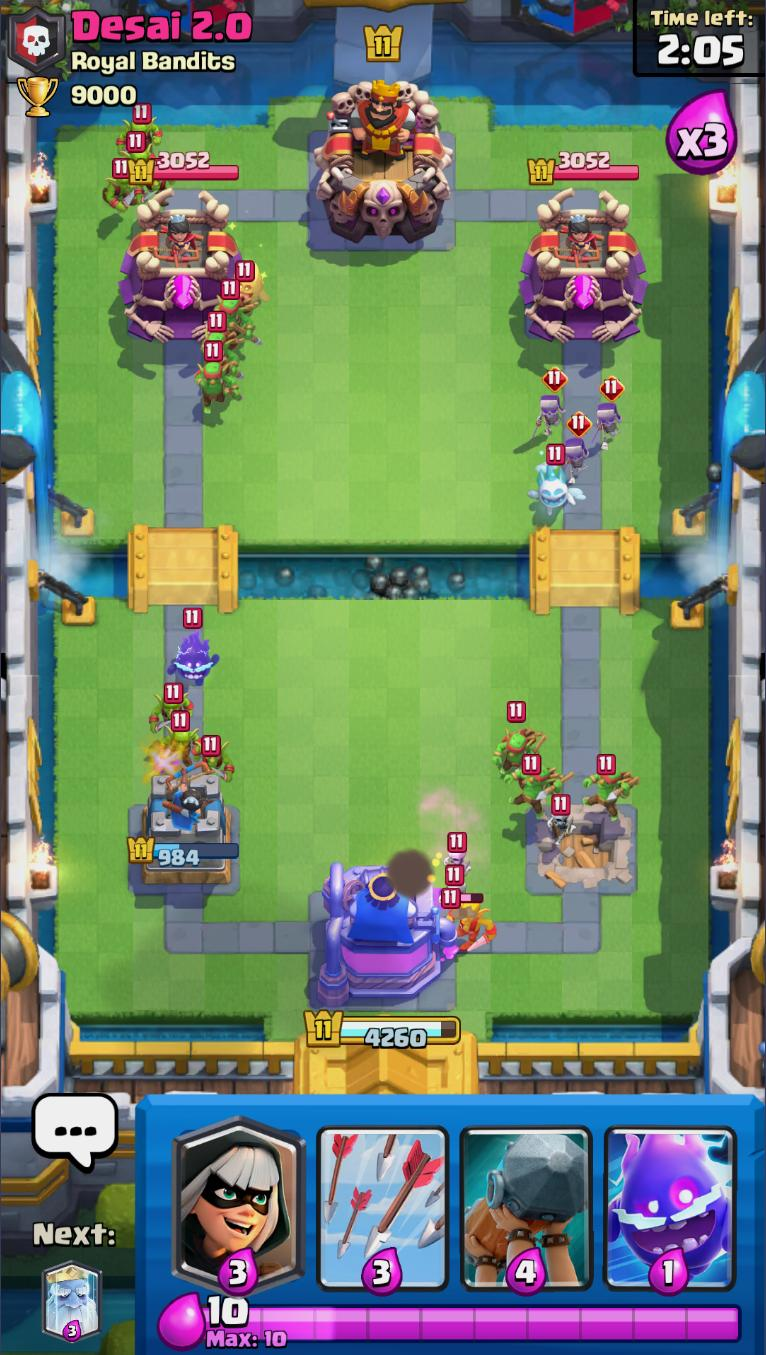ArrowDeck: (309, 1096, 457, 1292)
BanditDeck: (165, 1096, 312, 1295)
BattleRamDeck: (453, 1096, 600, 1293)
ElectroSpirit: (165, 609, 221, 683)
ElectroSpiritDeck: (597, 1096, 746, 1292)
Elixir: (206, 1292, 251, 1330)
EnemyTower: (518, 186, 650, 344), (121, 187, 249, 342)
EvoSkeleton: (531, 368, 569, 439), (558, 409, 592, 480), (590, 378, 624, 442)
Goblin: (445, 886, 494, 951), (101, 155, 140, 221), (148, 685, 194, 731), (115, 100, 162, 143), (163, 715, 206, 759), (191, 736, 235, 777), (116, 138, 159, 169)
HealSpirit: (230, 259, 271, 306)
IceSpirit: (531, 446, 579, 516)
KingTower: (309, 78, 456, 245)
MyKingHP: (305, 1008, 462, 1051)
MyKingTower: (314, 860, 460, 1009)
MyPrincessTower: (129, 771, 243, 891)
MyPrincessTowerBrocken: (529, 794, 643, 892)
MyPrincessTowerHP: (127, 837, 240, 865)
PrincessTower: (550, 214, 606, 266), (156, 211, 204, 264)
RoyaleGhostNext: (41, 1255, 103, 1344)
Skeleton: (548, 794, 578, 849), (441, 830, 473, 876)
SpearGoblin: (580, 751, 632, 826), (516, 749, 568, 824), (494, 700, 541, 774), (206, 284, 258, 341), (198, 345, 239, 412), (196, 313, 240, 371)
TowerPrincessHP: (126, 151, 243, 186), (529, 151, 640, 186)
